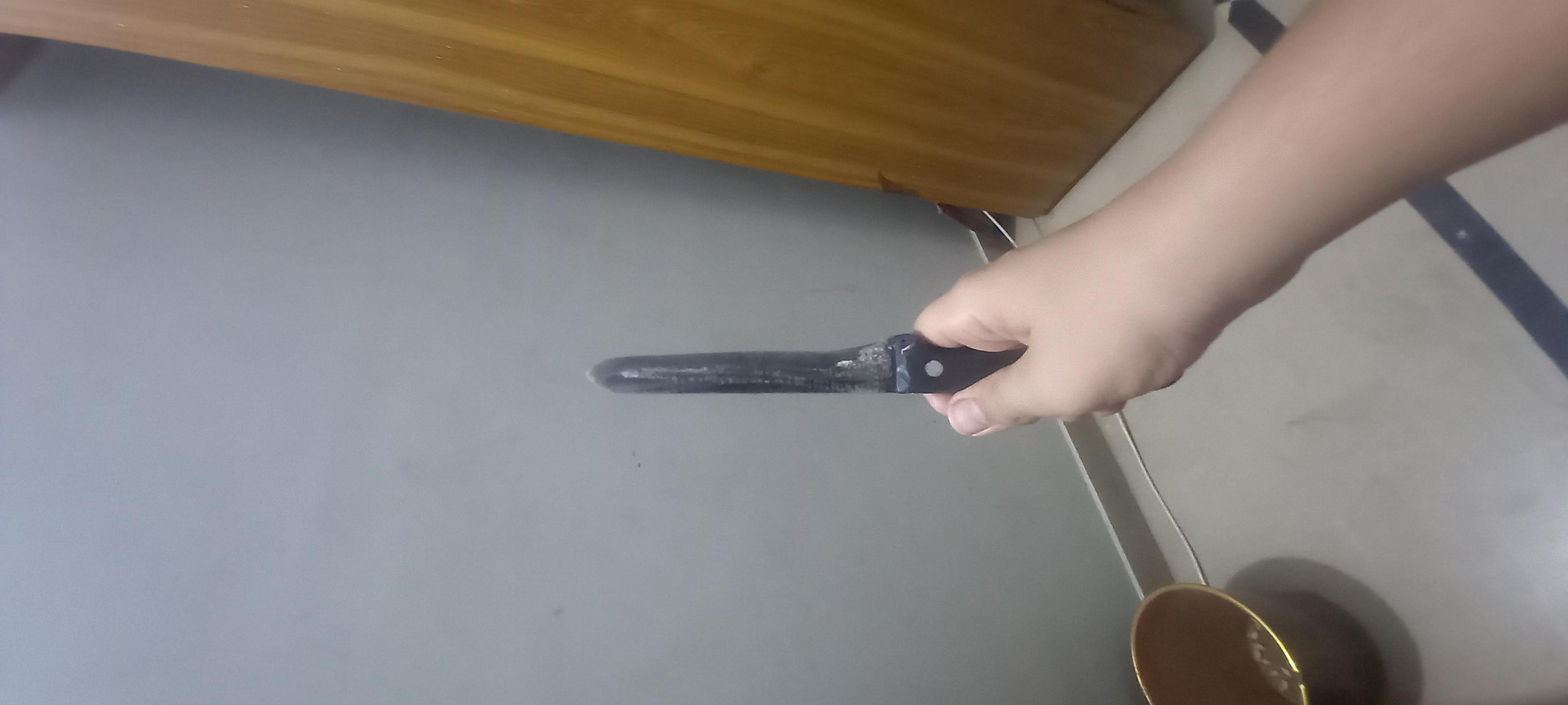knives: (590, 246, 834, 521)
